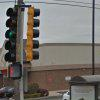Traffic light: (1, 3, 47, 70)
